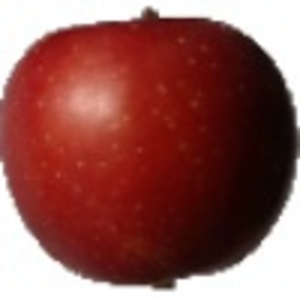maçã braeburn: (1, 14, 300, 288)
